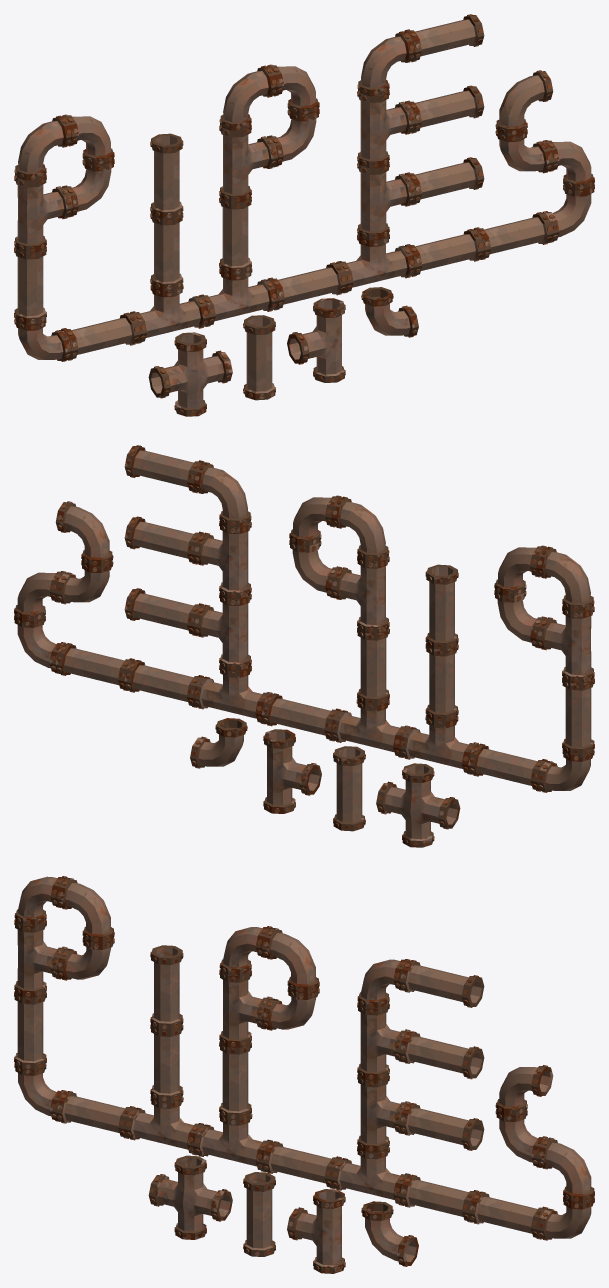
The model's file is pipe_txt.fbx.
The picture shows the model from 3 angles, top to bottom: view 1: azimuth 30°, elevation 25°; view 2: azimuth 150°, elevation 25°; view 3: azimuth 330°, elevation 25°; orthographic projection.
Visible parts, largest first — view 1: X, T, T.001, T.008, T.007, T.003, T.006, T.002, T.004, I, I.004, I.001 (+22 smaller); view 2: X, T, T.001, T.008, T.007, T.003, T.006, T.002, T.004, I, I.004, I.001 (+22 smaller); view 3: X, T, T.008, T.001, T.007, T.002, T.003, T.006, T.004, I, I.004, I.008 (+22 smaller).
Part boxes in pixels (x1=…): X: x1=148, y1=332, x2=232, y2=416; T: x1=287, y1=298, x2=345, y2=382; T.001: x1=14, y1=174, x2=72, y2=252; T.008: x1=357, y1=90, x2=415, y2=168; T.007: x1=357, y1=161, x2=415, y2=240; T.003: x1=219, y1=124, x2=277, y2=202; T.006: x1=335, y1=233, x2=415, y2=293; T.002: x1=129, y1=284, x2=209, y2=343; T.004: x1=198, y1=267, x2=277, y2=326; I: x1=243, y1=315, x2=275, y2=400; I.004: x1=150, y1=133, x2=183, y2=218; I.001: x1=14, y1=246, x2=46, y2=324; X: x1=376, y1=763, x2=460, y2=847; T: x1=263, y1=729, x2=321, y2=813; T.001: x1=536, y1=605, x2=594, y2=683; T.008: x1=193, y1=521, x2=251, y2=599; T.007: x1=193, y1=592, x2=251, y2=671; T.003: x1=331, y1=555, x2=389, y2=633; T.006: x1=193, y1=664, x2=273, y2=724; T.002: x1=399, y1=715, x2=479, y2=774; T.004: x1=331, y1=698, x2=410, y2=757; I: x1=333, y1=746, x2=365, y2=831; I.004: x1=425, y1=564, x2=458, y2=649; I.001: x1=562, y1=677, x2=594, y2=755; X: x1=148, y1=1155, x2=232, y2=1239; T: x1=287, y1=1189, x2=345, y2=1273; T.008: x1=357, y1=1002, x2=410, y2=1080; T.001: x1=14, y1=919, x2=68, y2=997; T.007: x1=357, y1=1074, x2=410, y2=1152; T.002: x1=124, y1=1095, x2=204, y2=1155; T.003: x1=219, y1=969, x2=273, y2=1047; T.006: x1=331, y1=1146, x2=410, y2=1205; T.004: x1=193, y1=1112, x2=273, y2=1172; I: x1=243, y1=1172, x2=275, y2=1256; I.004: x1=150, y1=945, x2=183, y2=1030; I.008: x1=399, y1=1031, x2=484, y2=1079.
Size of the model in its own units: 8368 by 4521 by 409.
1 material, 1 textured.
